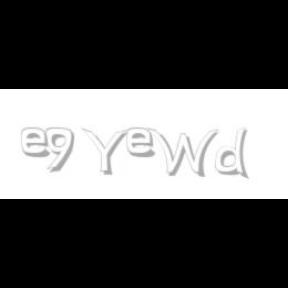9: (46, 128, 74, 172)
W: (147, 128, 219, 178)
Y: (81, 128, 127, 176)
d: (216, 128, 252, 180)
e: (126, 128, 160, 158), (22, 128, 54, 158)
